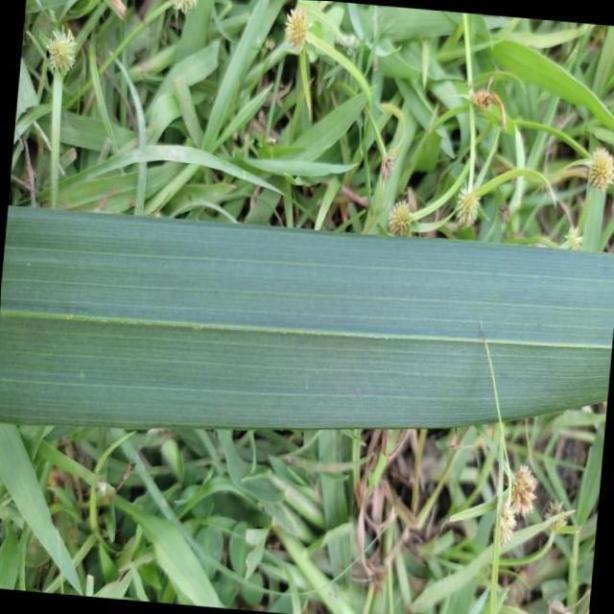Healthy: (5, 206, 614, 432)
